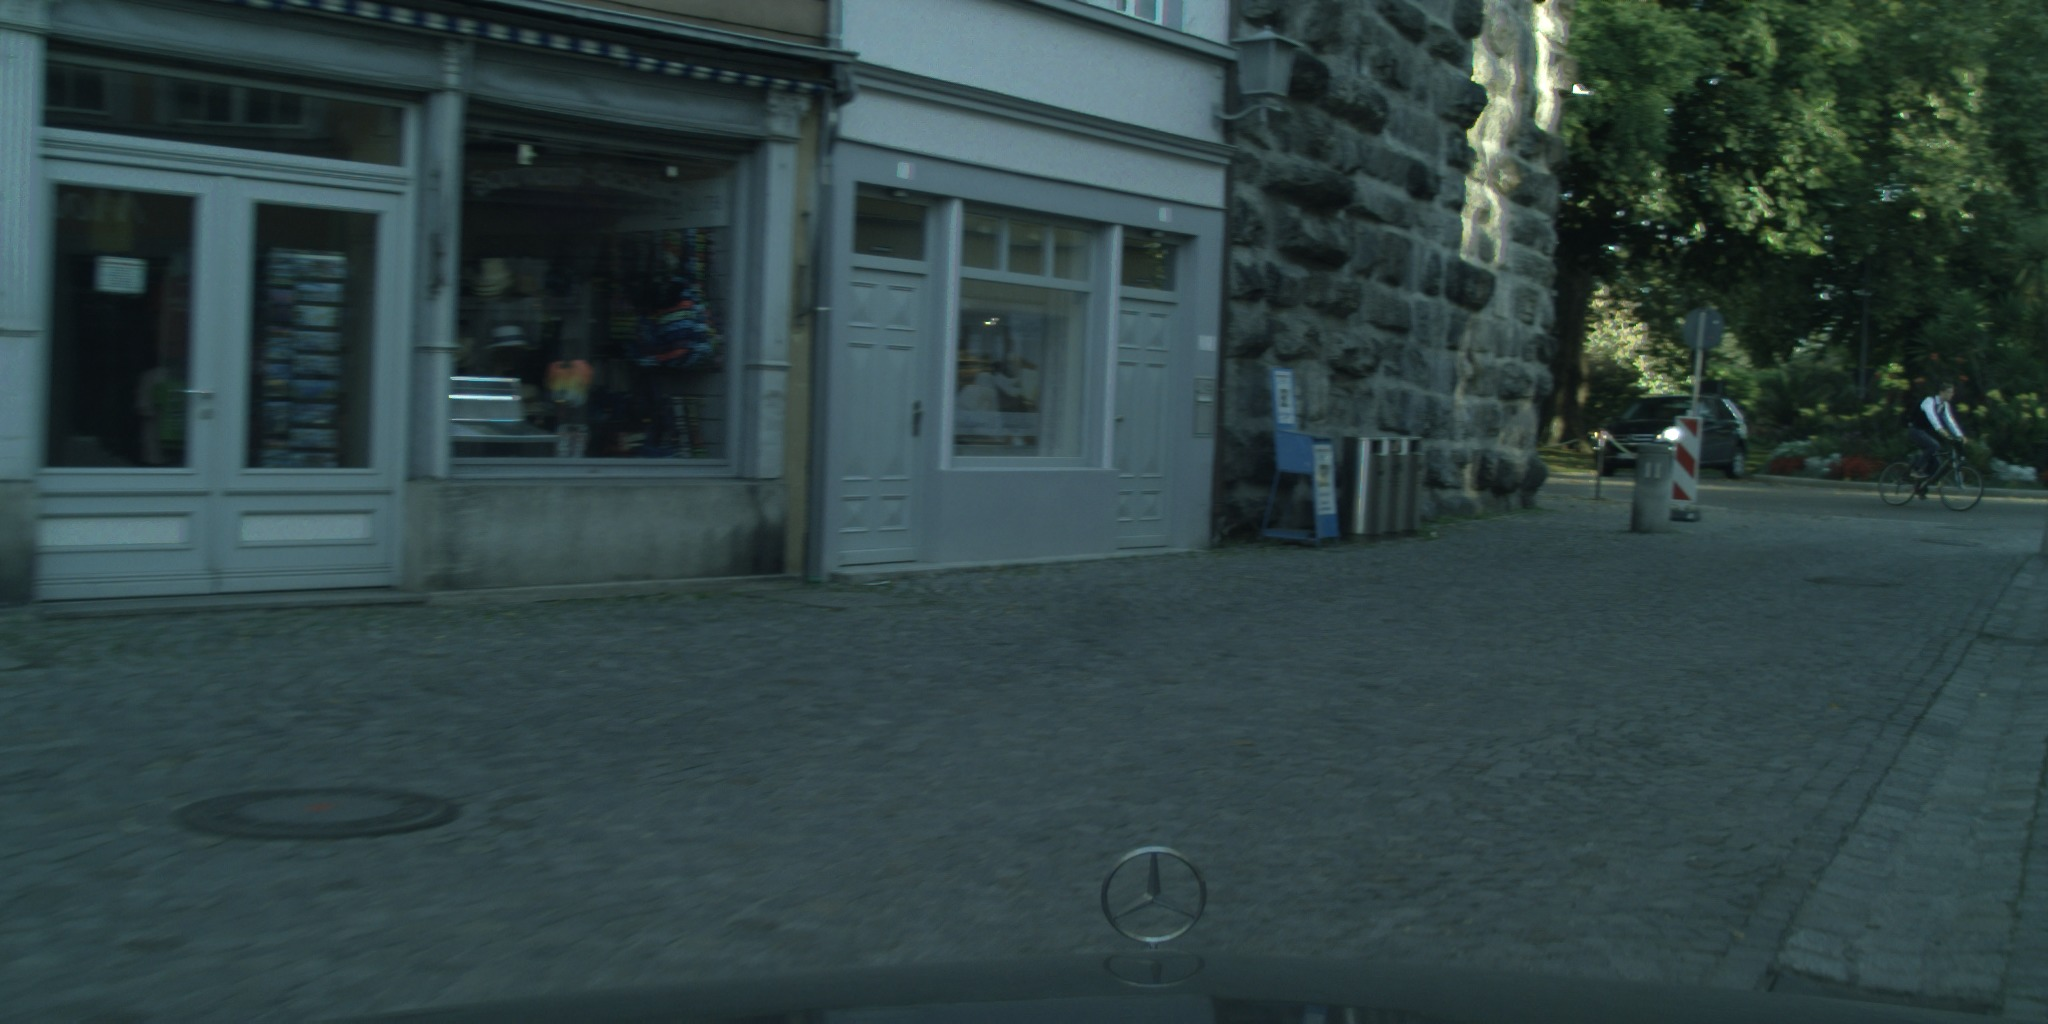bicycle: (1878, 432, 1984, 511)
car: (1590, 392, 1752, 481)
rider: (1902, 382, 1967, 499)
